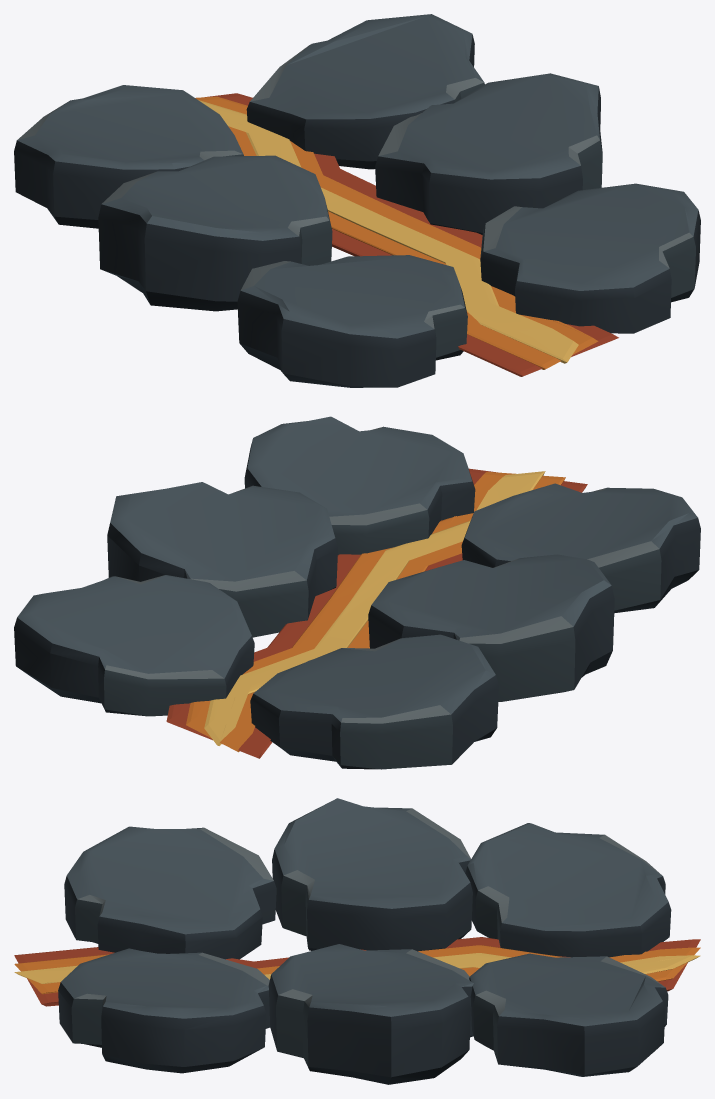
The model's file is fw_lava_fissure.glb.
The picture shows the model from 3 angles, top to bottom: view 1: azimuth 30°, elevation 25°; view 2: azimuth 150°, elevation 25°; view 3: azimuth 270°, elevation 25°; orthographic projection. The views are drawn at different scales.
Parts seen in each view (by area): view 1: body; view 2: body; view 3: body.
Boxes of the visible parts, <box> form: body: <box>14,14,700,387</box>; body: <box>14,416,700,769</box>; body: <box>14,798,700,1084</box>.
Bounding box in the file's own units: 1.98 × 0.3423 × 2.63.
